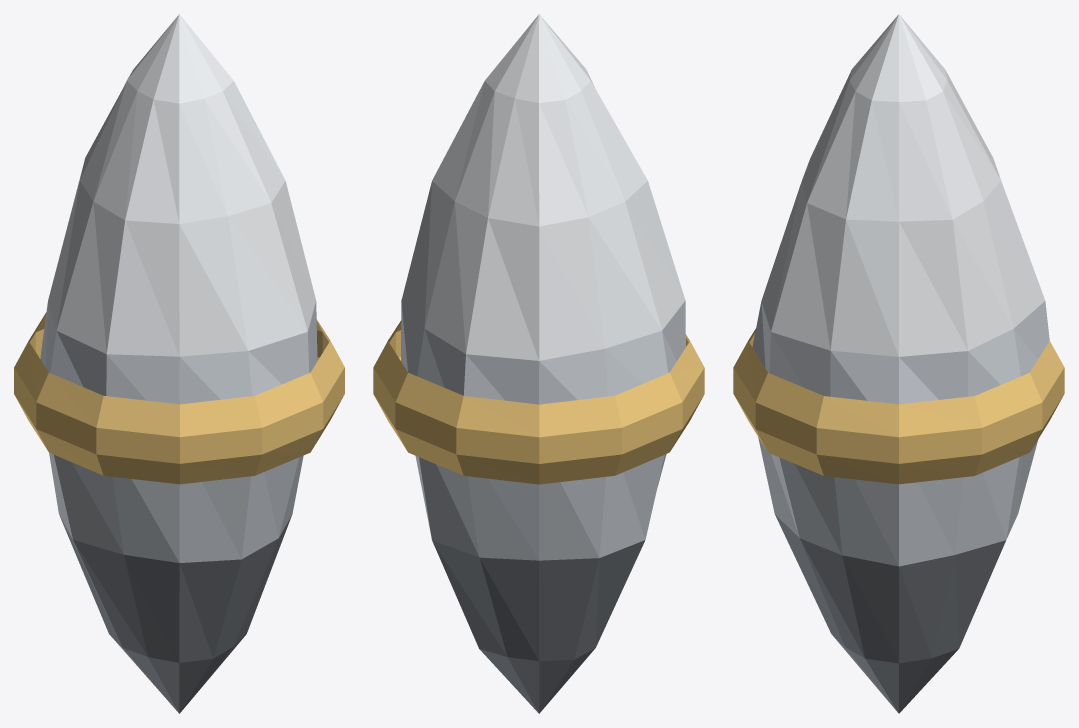
File: WispShard.obj
The picture shows the model from 3 angles, left to right: view 1: azimuth 30°, elevation 25°; view 2: azimuth 150°, elevation 25°; view 3: azimuth 270°, elevation 25°; orthographic projection.
Size of the model in its own units: 0.45 by 1.05 by 0.45.
